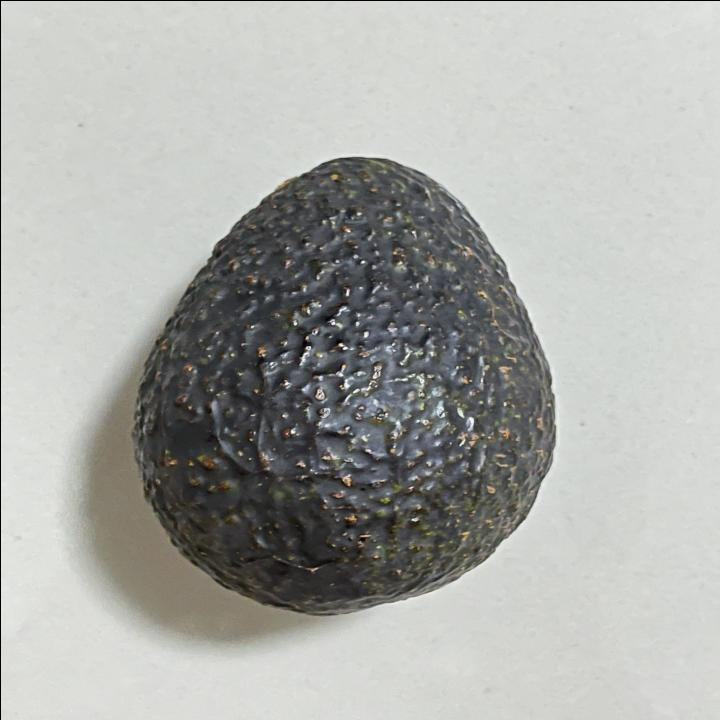Level1: (117, 141, 578, 623)
